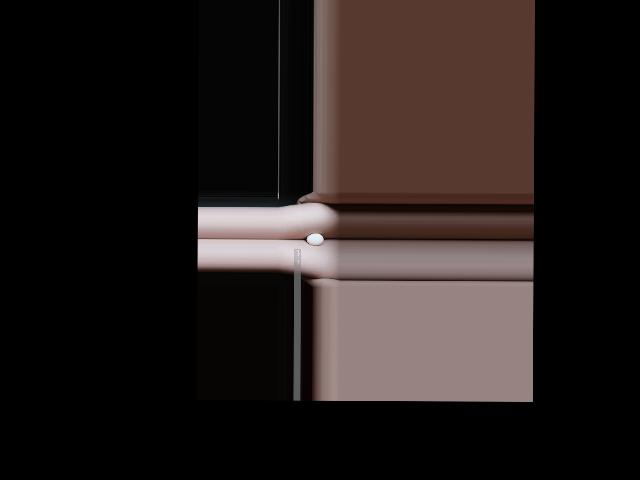egg: (306, 233, 323, 246)
